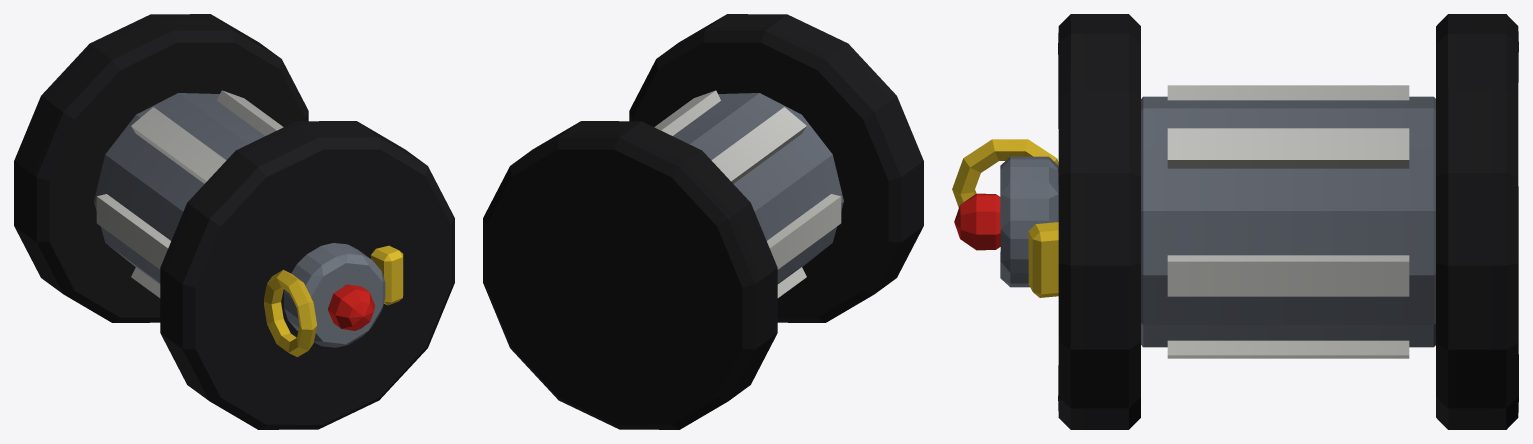
Rendered from flash.glb.
3 renders of one model, left to right at view 1: azimuth 30°, elevation 25°; view 2: azimuth 150°, elevation 25°; view 3: azimuth 270°, elevation 25°, orthographic. The views are drawn at different scales.
Visible parts, largest first — view 1: flash; view 2: flash; view 3: flash.
Boxes of the visible parts, x1,y1,x2,y2 form: flash: [14, 14, 454, 429]; flash: [483, 14, 923, 429]; flash: [952, 14, 1518, 429].
Size of the model in its own units: 0.1677 by 0.1719 by 0.2343.
